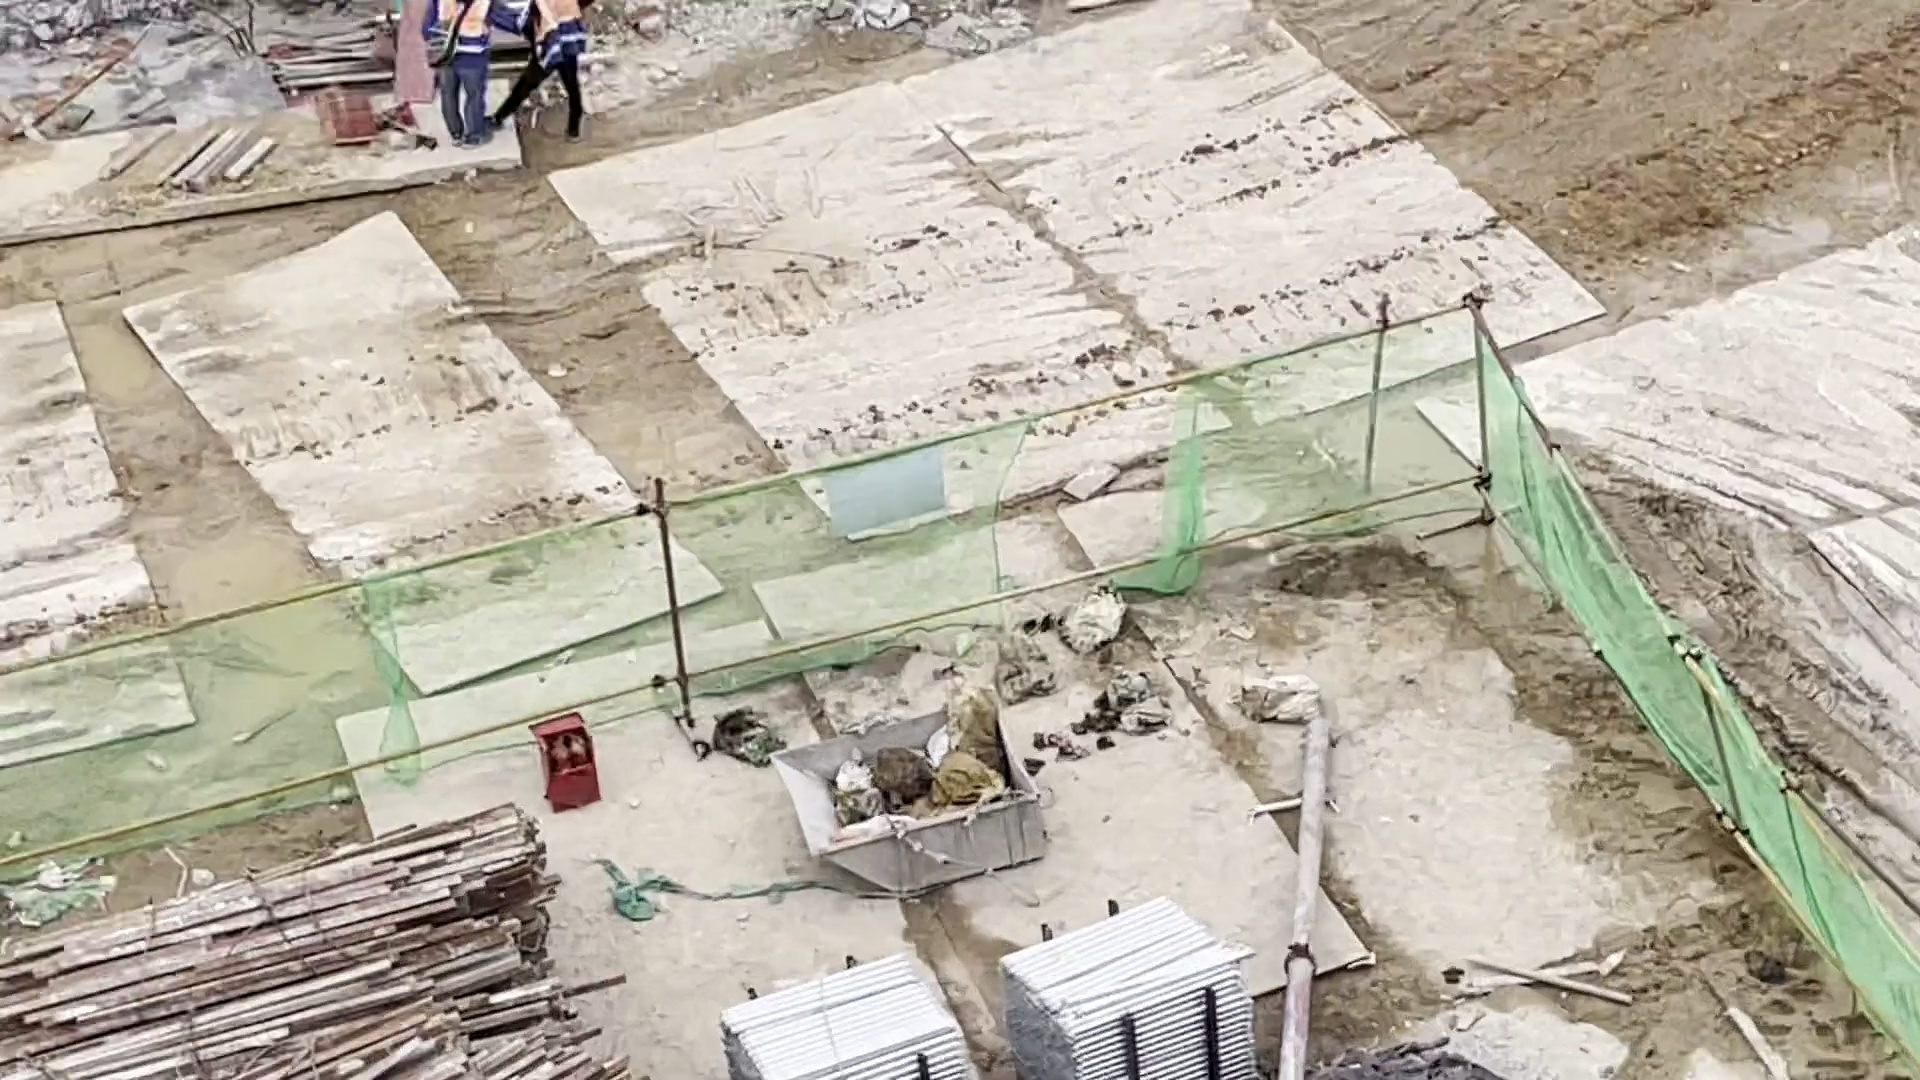hopper: (753, 685, 1076, 905)
person: (498, 1, 617, 149), (405, 1, 506, 158)
scaffold: (694, 895, 1266, 1080)
vest: (517, 1, 598, 81), (418, 4, 502, 77)
wood: (1, 784, 683, 1080)
